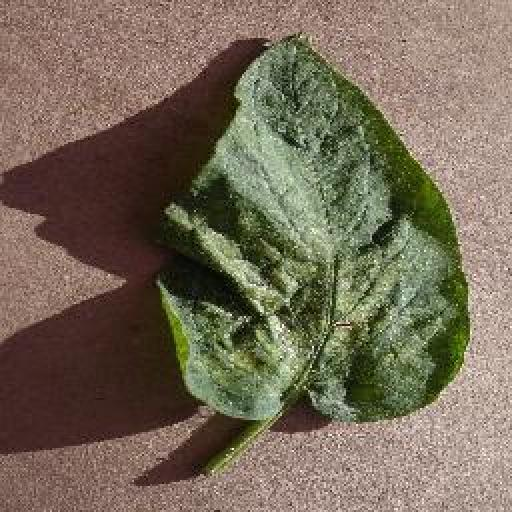Spider Mites: (158, 32, 472, 424)
